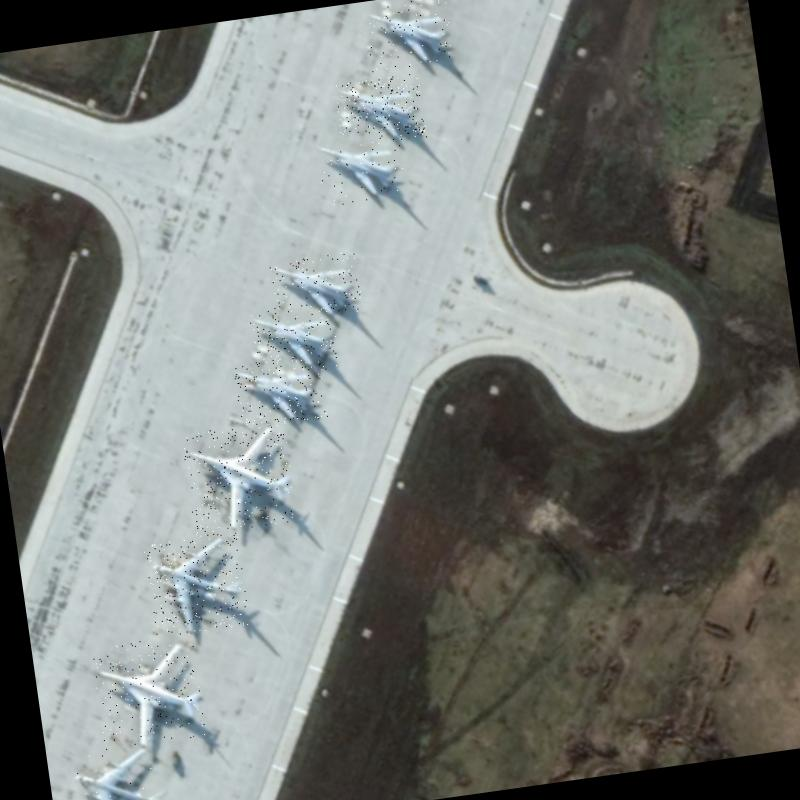A12: (312, 128, 408, 208), (246, 302, 339, 379), (232, 355, 328, 429), (334, 73, 426, 150), (268, 250, 364, 322), (362, 0, 456, 72)
A17: (142, 530, 252, 638), (66, 743, 163, 800)
A6: (181, 419, 298, 534), (90, 634, 205, 750)
